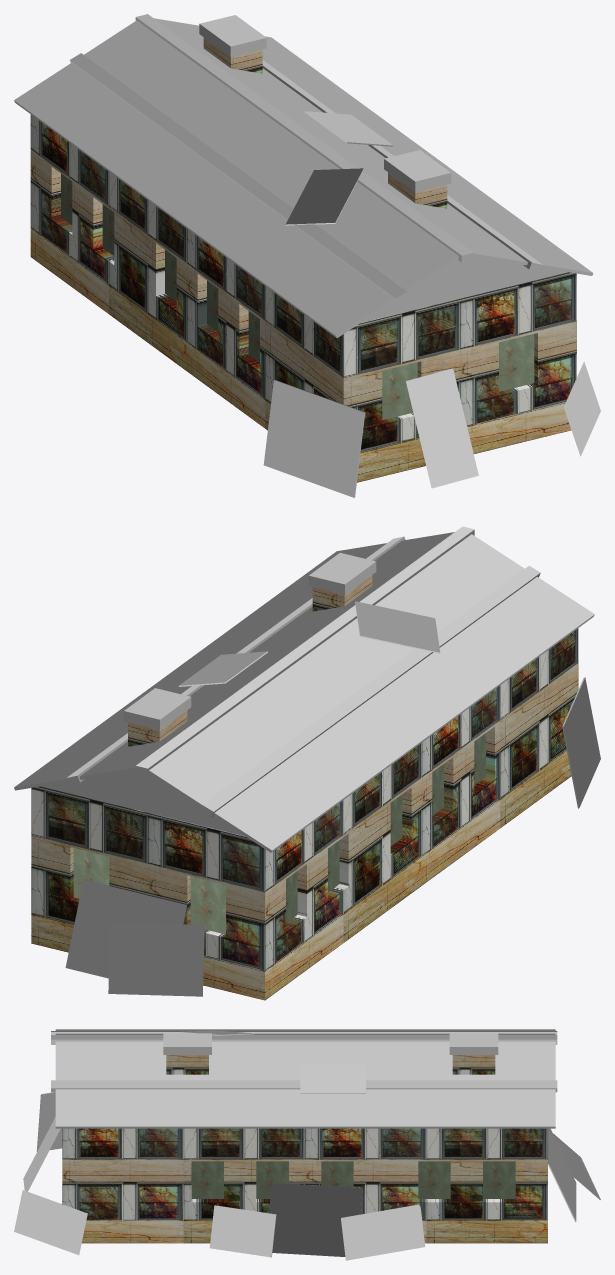
Rendered from House.FBX.
3 views of the same model, one above another, from view 1: azimuth 30°, elevation 25°; view 2: azimuth 150°, elevation 25°; view 3: azimuth 270°, elevation 25° (orthographic). The views are drawn at different scales.
Visible parts, largest first — view 1: Cube; view 2: Cube; view 3: Cube.
Boxes of the visible parts, bbox=[...] form: Cube: bbox=[14, 14, 600, 497]; Cube: bbox=[14, 526, 600, 1000]; Cube: bbox=[14, 1029, 600, 1260].
Bounding box in the file's own units: 2.77 × 1.83 × 5.61.
